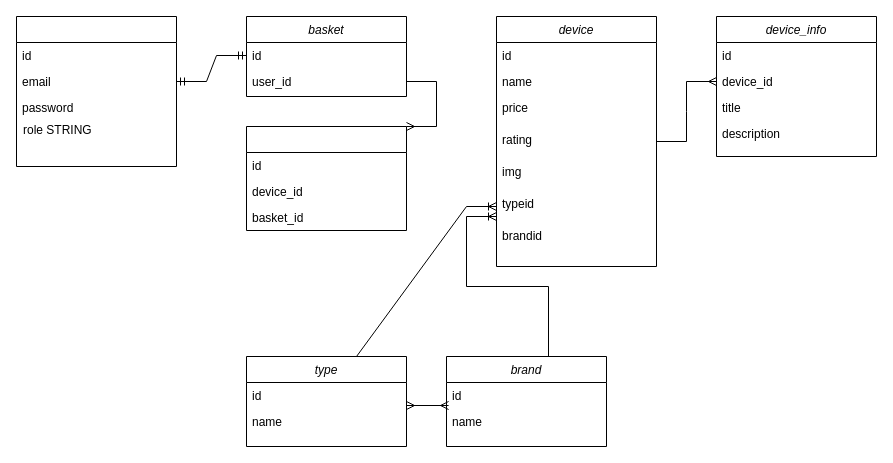
Image size: 893x463. Some labels were removed from this diagram. Here are the shapes that lost their labels. From the top down, the box of each, then its label:
(16, 16, 176, 166): user
(246, 126, 406, 230): basket_devce
